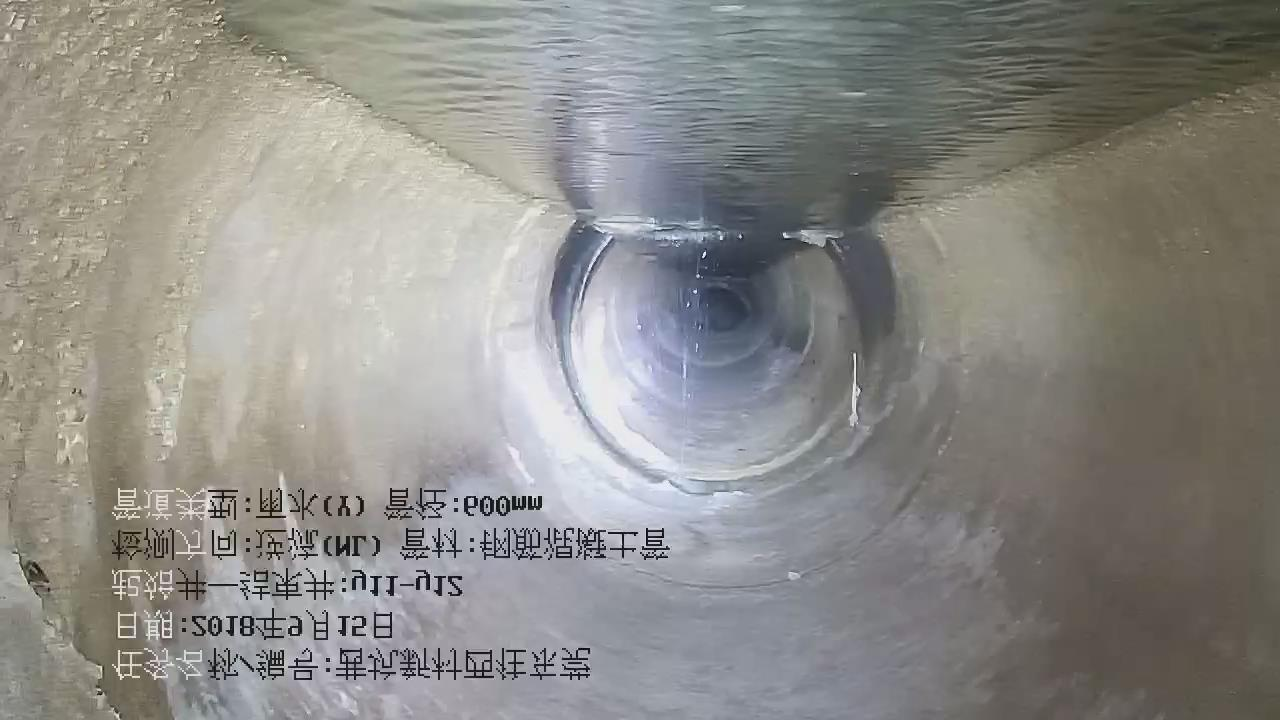SL: (663, 223, 733, 489)
